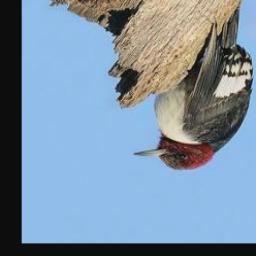Woodpecker: (132, 7, 255, 171)
